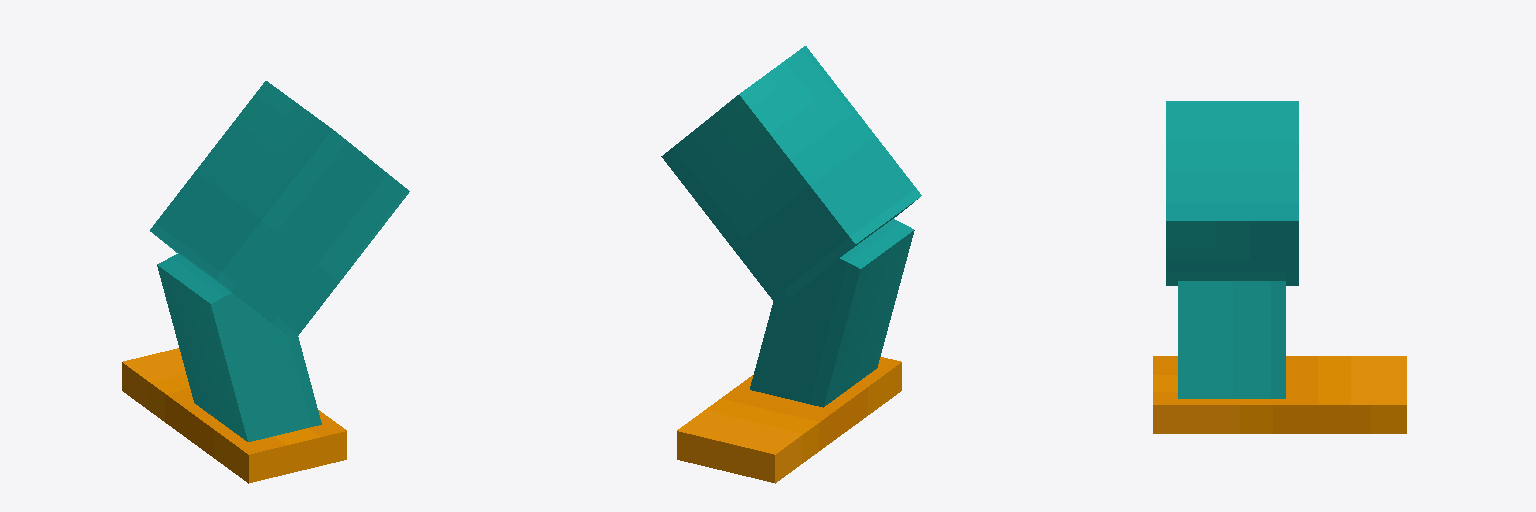
The picture shows the model from 3 angles: view 1: azimuth 30°, elevation 25°; view 2: azimuth 150°, elevation 25°; view 3: azimuth 270°, elevation 25°; orthographic projection.
Parts seen in each view (by area): view 1: 3ea4ecbd_0660_1efc_9678_fc2c76487f80_Mesh_0, 376b0246_65e2_7fb3_f330_09a6636eee53_Mesh_1, 1b2d0728_b1a8_7cff_3654_2a6479efc5f4_Mesh_2; view 2: 3ea4ecbd_0660_1efc_9678_fc2c76487f80_Mesh_0, 376b0246_65e2_7fb3_f330_09a6636eee53_Mesh_1, 1b2d0728_b1a8_7cff_3654_2a6479efc5f4_Mesh_2; view 3: 3ea4ecbd_0660_1efc_9678_fc2c76487f80_Mesh_0, 1b2d0728_b1a8_7cff_3654_2a6479efc5f4_Mesh_2, 376b0246_65e2_7fb3_f330_09a6636eee53_Mesh_1.
Boxes of the visible parts, box(x1,y1,x2,y2) form: 3ea4ecbd_0660_1efc_9678_fc2c76487f80_Mesh_0: box(150, 81, 409, 341); 376b0246_65e2_7fb3_f330_09a6636eee53_Mesh_1: box(157, 254, 321, 441); 1b2d0728_b1a8_7cff_3654_2a6479efc5f4_Mesh_2: box(122, 348, 346, 483); 3ea4ecbd_0660_1efc_9678_fc2c76487f80_Mesh_0: box(661, 46, 921, 306); 376b0246_65e2_7fb3_f330_09a6636eee53_Mesh_1: box(750, 219, 914, 407); 1b2d0728_b1a8_7cff_3654_2a6479efc5f4_Mesh_2: box(677, 357, 901, 483); 3ea4ecbd_0660_1efc_9678_fc2c76487f80_Mesh_0: box(1166, 101, 1298, 285); 1b2d0728_b1a8_7cff_3654_2a6479efc5f4_Mesh_2: box(1153, 356, 1406, 433); 376b0246_65e2_7fb3_f330_09a6636eee53_Mesh_1: box(1178, 281, 1285, 398).
Bounding box in the file's own units: 7.07 × 11.41 × 8.
1 materials, 1 textured.